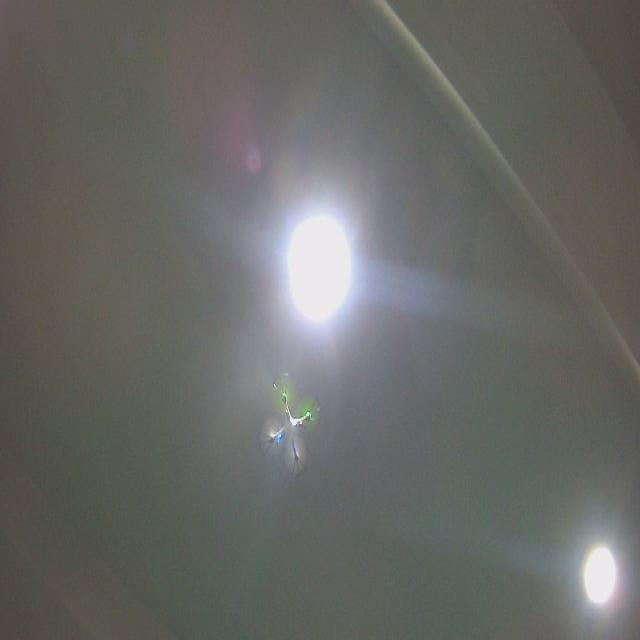drone: (257, 369, 324, 483)
